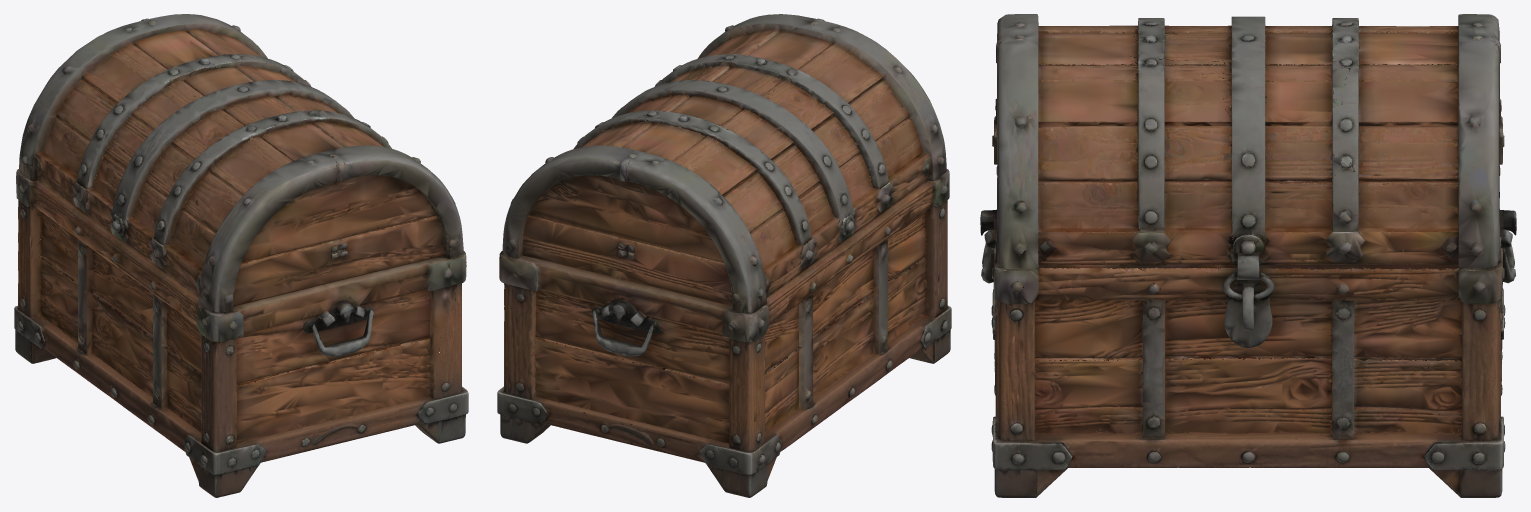
The model's file is locked-chests.glb.
3 views of the same model, side by side, from view 1: azimuth 30°, elevation 25°; view 2: azimuth 150°, elevation 25°; view 3: azimuth 270°, elevation 25° (orthographic). The views are drawn at different scales.
Visible parts, largest first — view 1: tripo_part_7, tripo_part_8, tripo_part_6, tripo_part_1, tripo_part_11, tripo_part_14, tripo_part_2, tripo_part_0, tripo_part_3, tripo_part_4, tripo_part_12; view 2: tripo_part_7, tripo_part_8, tripo_part_6, tripo_part_11, tripo_part_14, tripo_part_15, tripo_part_1, tripo_part_16, tripo_part_12, tripo_part_13, tripo_part_3; view 3: tripo_part_7, tripo_part_8, tripo_part_6, tripo_part_15, tripo_part_2, tripo_part_11, tripo_part_9, tripo_part_10, tripo_part_5, tripo_part_4, tripo_part_13, tripo_part_16 (+1 smaller).
Part boxes in pixels (<box>): tripo_part_7: <box>16,14,466,443</box>; tripo_part_8: <box>14,305,468,480</box>; tripo_part_6: <box>110,80,391,250</box>; tripo_part_1: <box>201,334,236,452</box>; tripo_part_11: <box>76,54,308,189</box>; tripo_part_14: <box>18,200,41,317</box>; tripo_part_2: <box>438,283,462,394</box>; tripo_part_0: <box>303,304,374,356</box>; tripo_part_3: <box>191,461,259,497</box>; tripo_part_4: <box>407,397,465,443</box>; tripo_part_12: <box>15,320,67,363</box>; tripo_part_7: <box>499,14,949,445</box>; tripo_part_8: <box>497,304,951,475</box>; tripo_part_6: <box>612,54,891,235</box>; tripo_part_11: <box>573,110,812,245</box>; tripo_part_14: <box>729,334,764,452</box>; tripo_part_15: <box>504,283,535,399</box>; tripo_part_1: <box>924,200,947,317</box>; tripo_part_16: <box>592,298,658,356</box>; tripo_part_12: <box>704,457,776,497</box>; tripo_part_13: <box>500,396,559,443</box>; tripo_part_3: <box>895,321,950,363</box>; tripo_part_7: <box>980,14,1504,434</box>; tripo_part_8: <box>991,288,1505,470</box>; tripo_part_6: <box>1121,16,1270,264</box>; tripo_part_15: <box>1455,301,1500,441</box>; tripo_part_2: <box>996,300,1036,441</box>; tripo_part_11: <box>1323,18,1364,216</box>; tripo_part_9: <box>1222,253,1274,347</box>; tripo_part_10: <box>1323,300,1358,437</box>; tripo_part_5: <box>1139,300,1165,437</box>; tripo_part_4: <box>994,440,1067,497</box>; tripo_part_13: <box>1429,440,1502,497</box>; tripo_part_16: <box>1500,210,1516,283</box>.
Size of the model in its own units: 0.7488 by 0.7962 by 0.9996.
17 materials, 17 textured.
